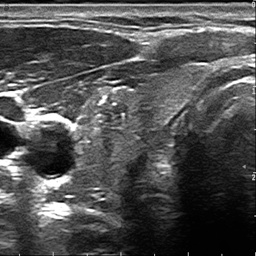mass: (91, 87, 131, 114)
